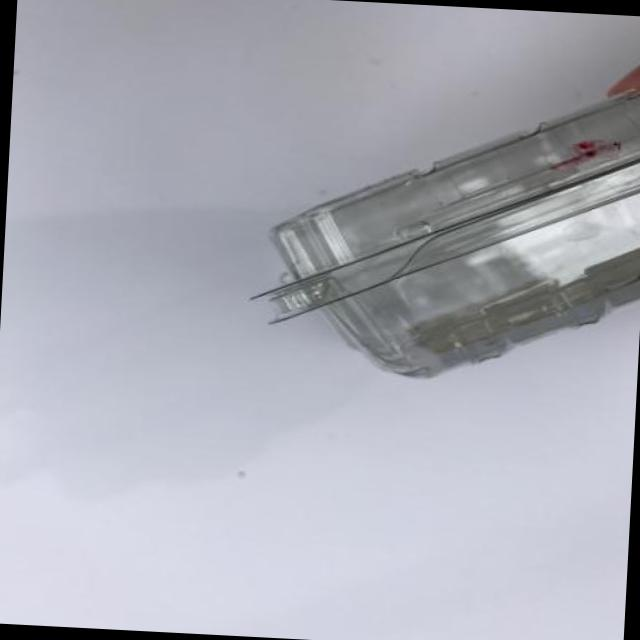Clamshell: (234, 46, 640, 403)
